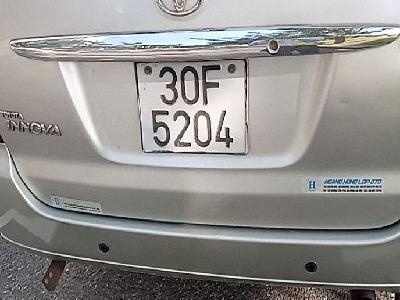lisence: (134, 60, 251, 154)
